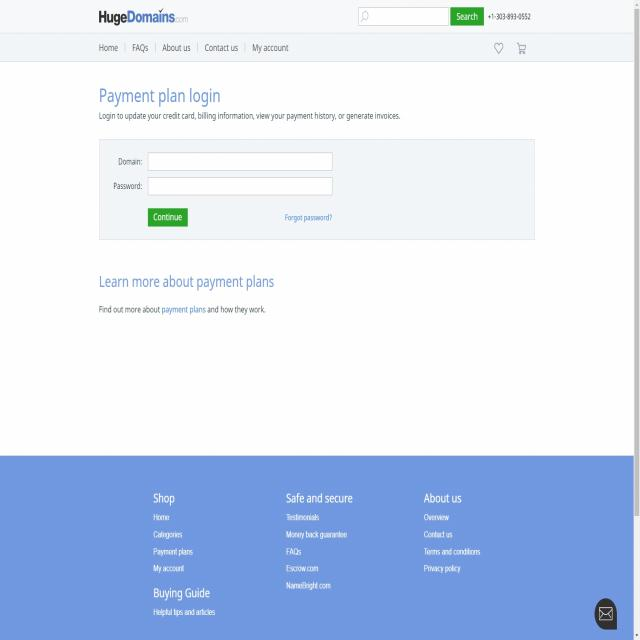menu-bar: (94, 32, 294, 62)
search: (358, 4, 484, 27)
